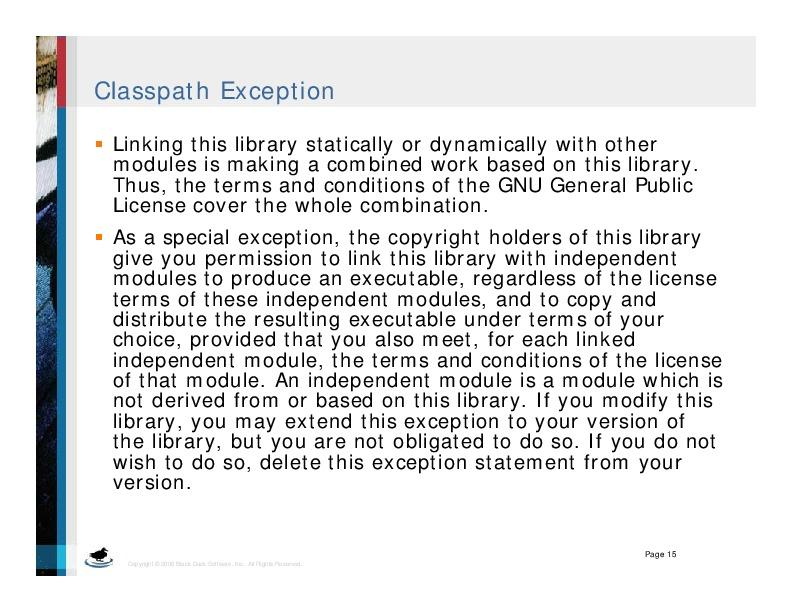paragraph: (108, 127, 741, 525)
title: (90, 74, 342, 112)
